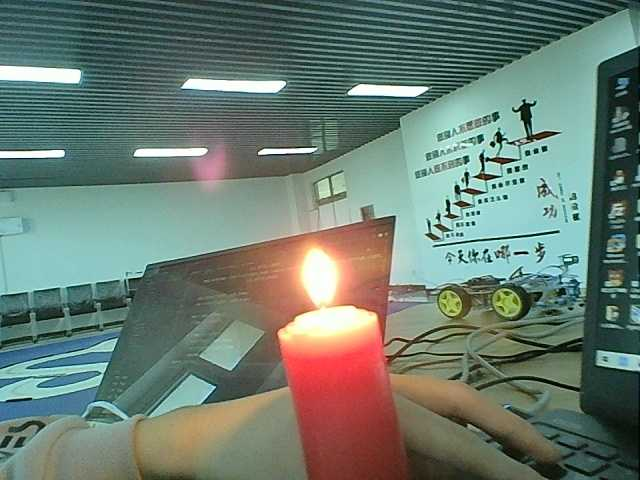candle: (270, 311, 422, 480)
fire: (287, 240, 351, 317)
